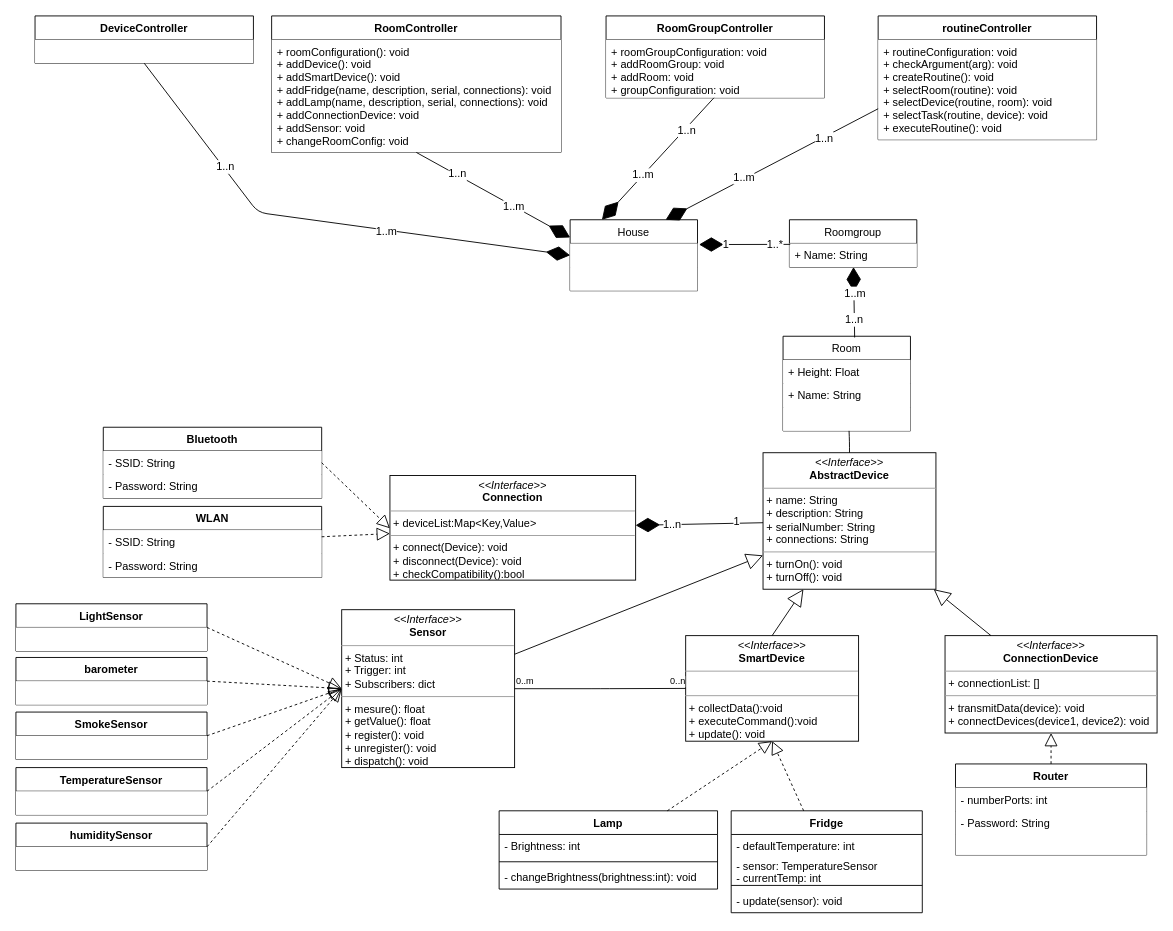
This 1173x931 diagram has some shape labels left out. The shapes that lost their labels are listed below. From the top down, each one's centre as x and y in pixels, then its label:
At point (144, 51): "+ deviceConfiguration: void".
At point (633, 255): "+ City: String".
At point (633, 278): "+ Address: String".
At point (846, 418): "+ Area: Float".
At point (111, 639): "- CurrentBrigthness: int".
At point (111, 692): "- CurrentPressure: int".
At point (111, 747): "- Smoke: bool".
At point (111, 802): "- currentTemp: int".
At point (111, 858): "- CurrentHumidity: int".
At point (1050, 844): "- Bandwidth:String".
